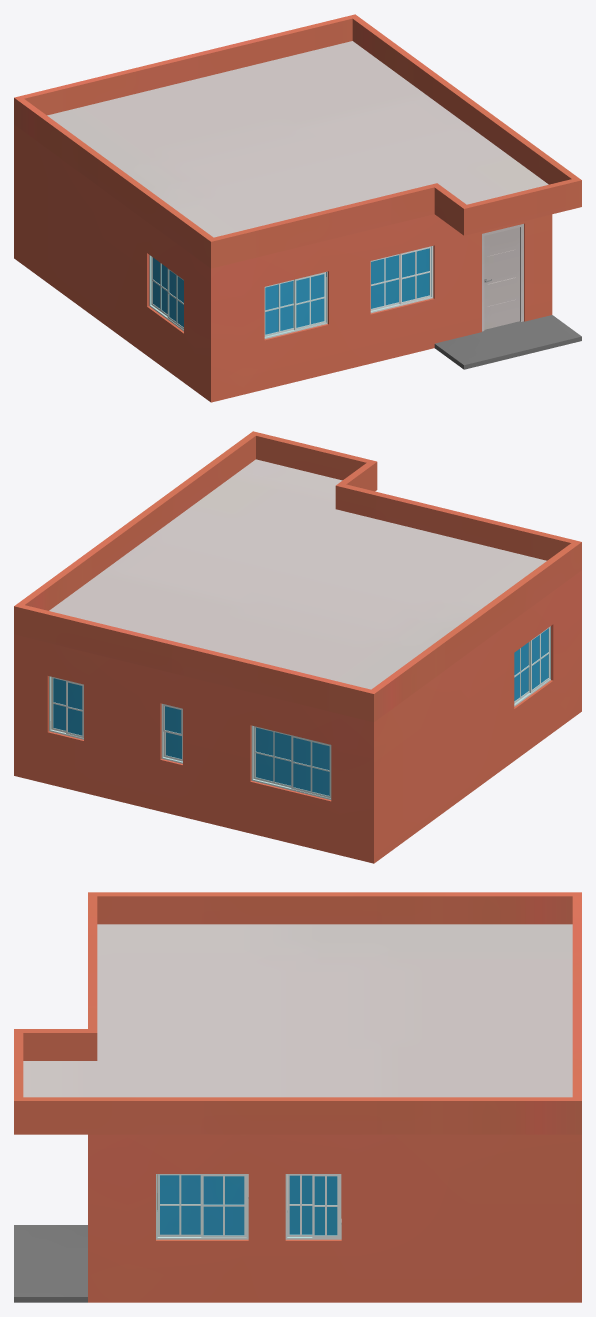
The picture shows the model from 3 angles, top to bottom: view 1: azimuth 30°, elevation 25°; view 2: azimuth 150°, elevation 25°; view 3: azimuth 270°, elevation 25°; orthographic projection. The views are drawn at different scales.
Visible parts, largest first — view 1: Roof, Walls, Windows, Floor, Door.01; view 2: Roof, Walls, Windows; view 3: Roof, Walls, Windows, Floor.
Part boxes in pixels (<box>): Roof: <box>14,14,581,268</box>; Walls: <box>14,124,552,402</box>; Windows: <box>149,246,433,338</box>; Floor: <box>434,315,581,369</box>; Door.01: <box>482,224,523,331</box>; Roof: <box>14,431,581,722</box>; Walls: <box>14,570,581,863</box>; Windows: <box>49,626,550,799</box>; Roof: <box>14,892,581,1134</box>; Walls: <box>88,1134,581,1302</box>; Windows: <box>156,1174,341,1239</box>; Floor: <box>14,1174,287,1302</box>.
Bounding box in the file's own units: 8 × 3.6 × 9.2.
Materials: 24 (24 with a texture image).
